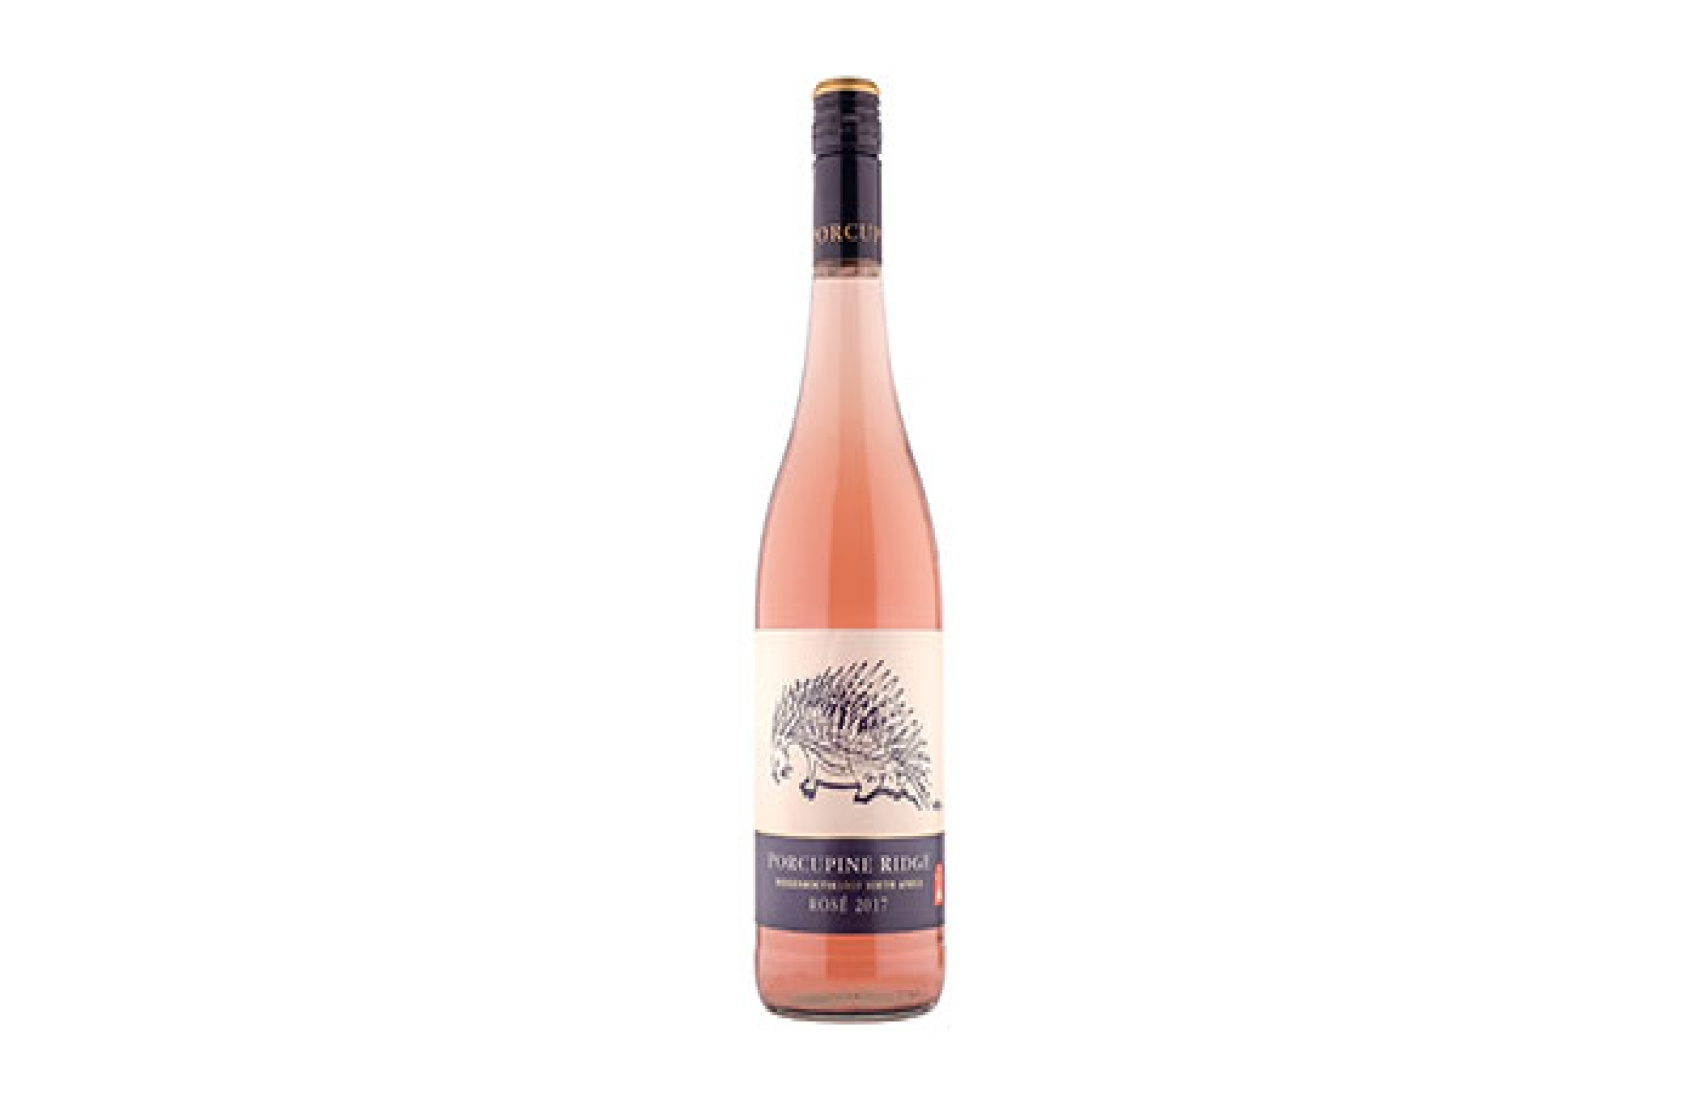wine: (743, 71, 954, 1027)
